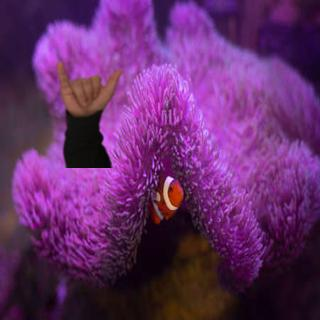HAVE: (50, 59, 129, 117)
